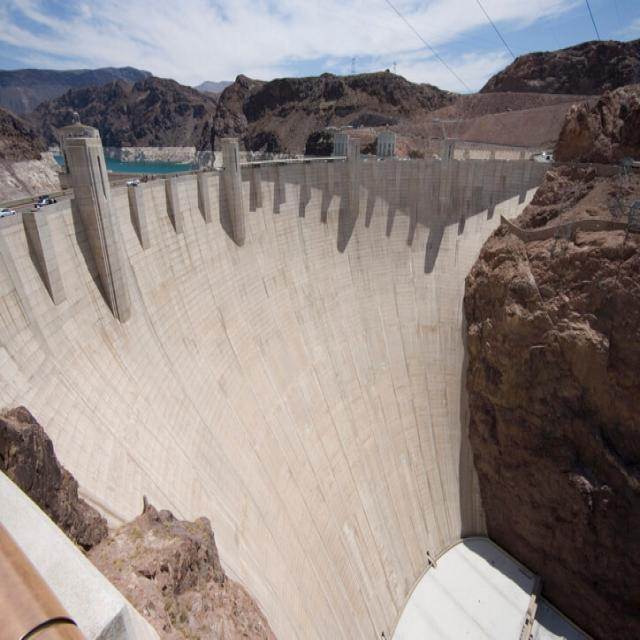Concrete: (0, 140, 550, 640)
